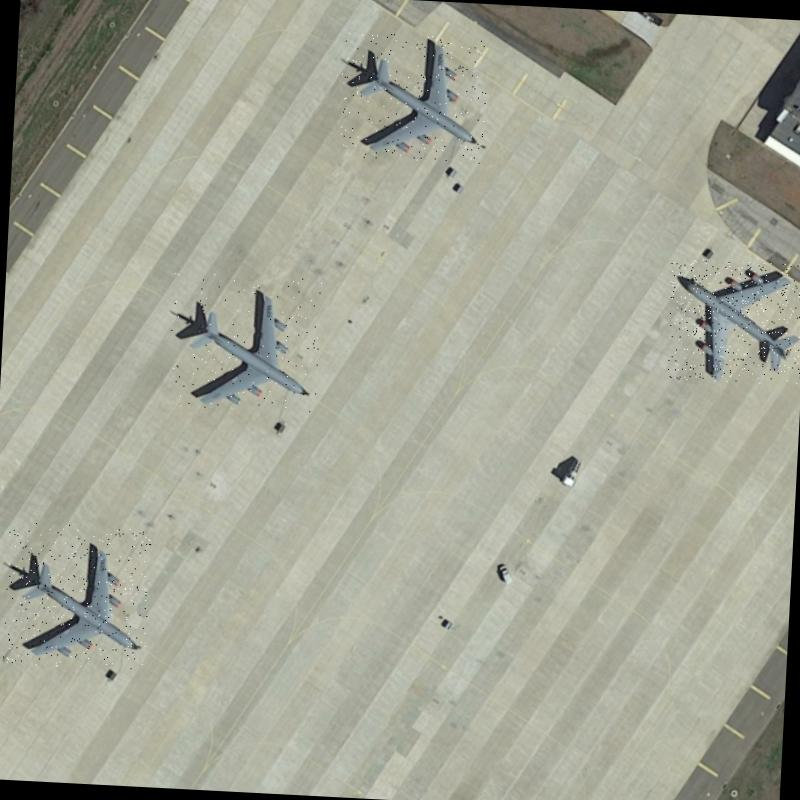A14: (166, 272, 322, 416), (3, 522, 152, 671), (338, 32, 489, 164), (665, 258, 800, 386)
